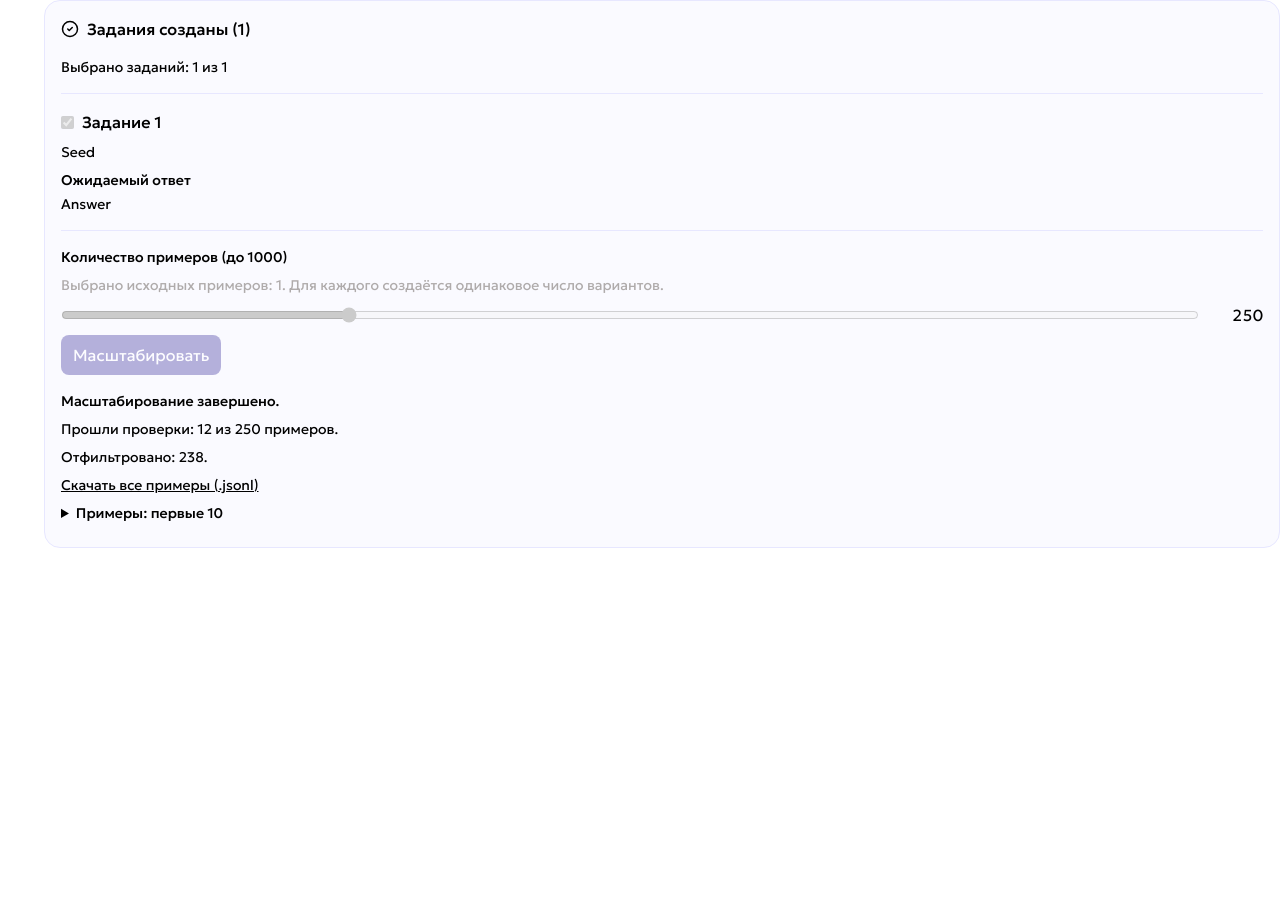
Test: GenerationPanel › limits the completed producer preview to ten examples
Click the heading "Примеры: первые 10": [149, 513] box [76,504,223,522]
(page scrolled)
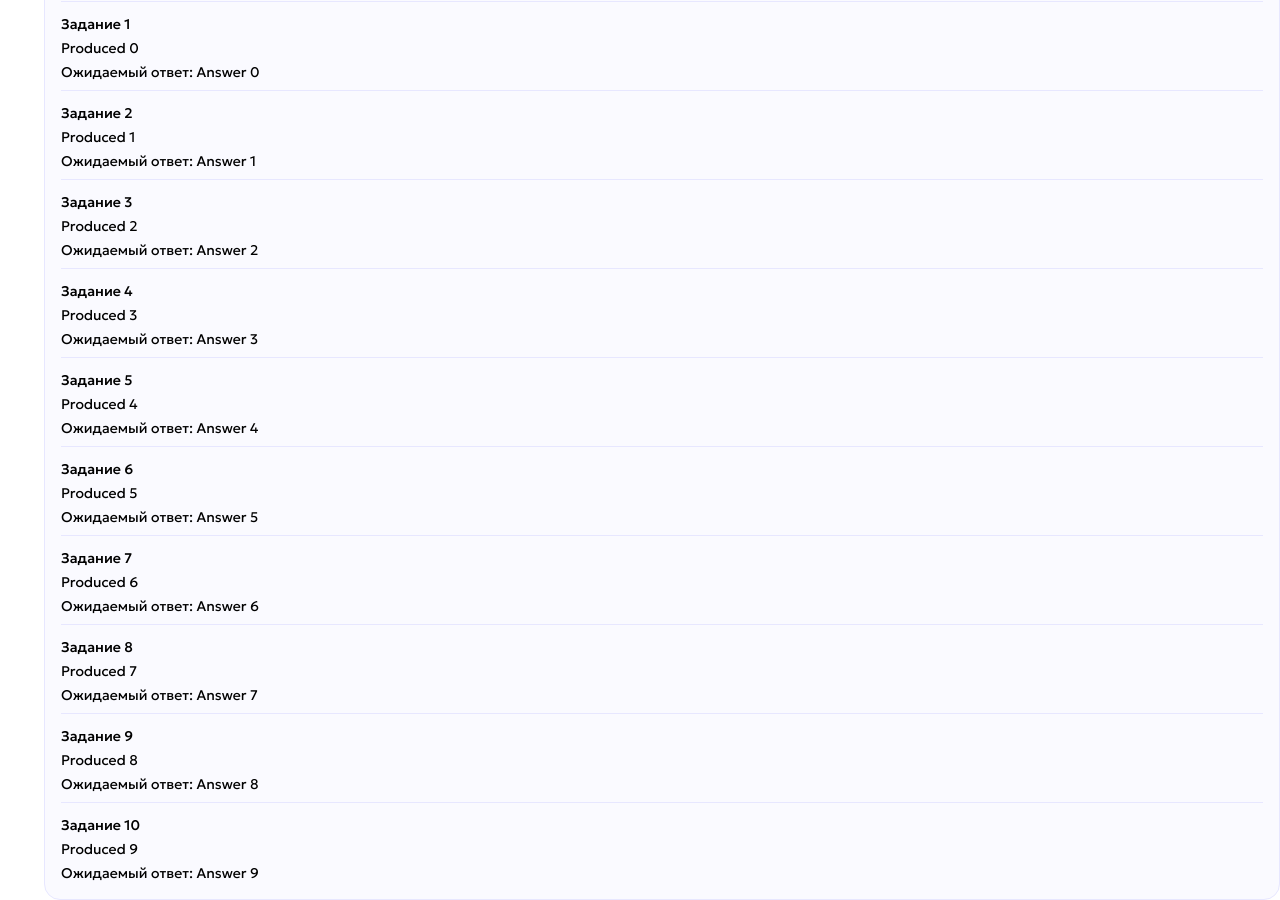
Check: the text "Produced 9" is shown, box [61,840,138,858]
